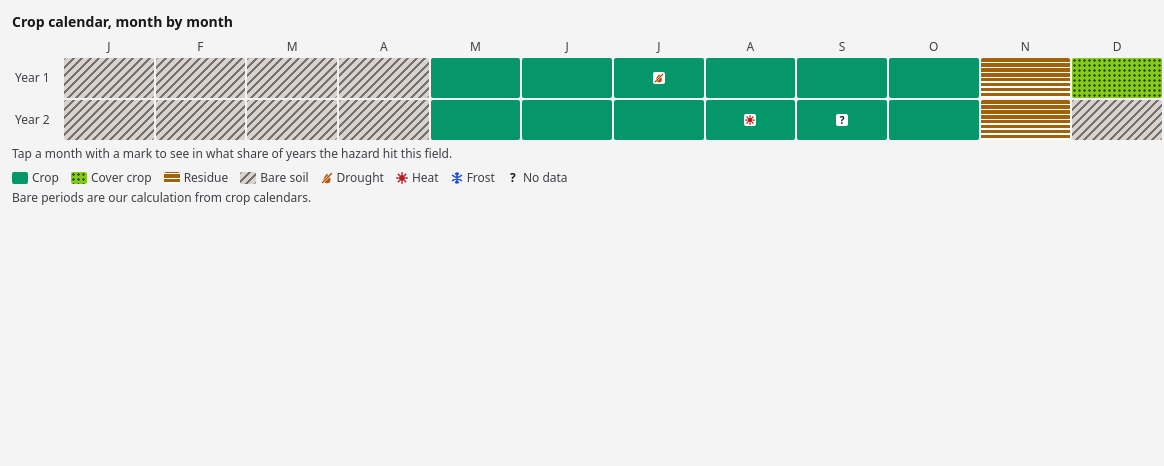
Scenario: CalendarStrip › shows the share of years as a percentage with its source chip when the month is tapped
Click the button named "July, Maize, drought risk" at (659, 78), box x1=614 y1=58 x2=704 y2=98
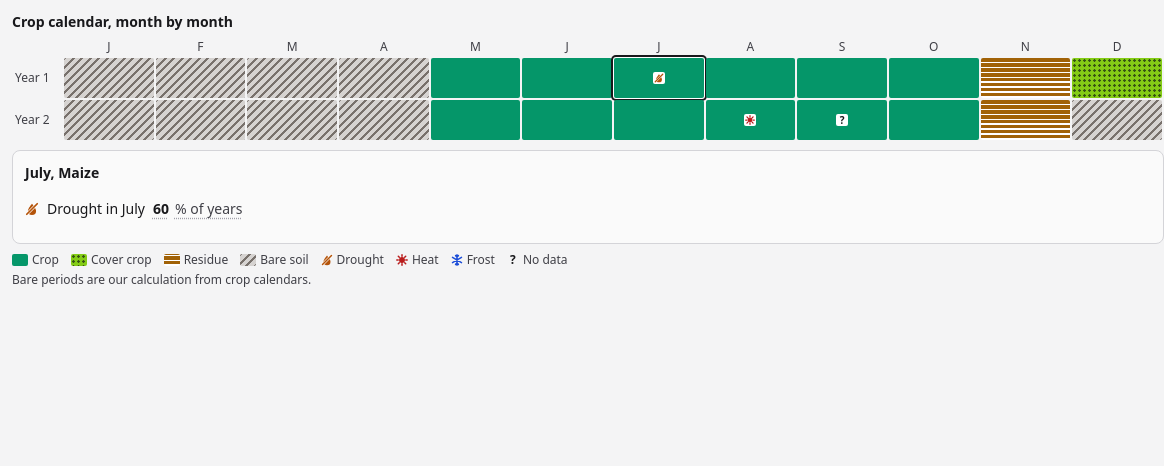
Expected: the text "Drought in July" is shown, x1=47 y1=199 x2=145 y2=219
Expected: the text "60" is shown, x1=153 y1=199 x2=169 y2=219
Expected: the text "% of years" is shown, x1=175 y1=199 x2=243 y2=219
Click the button with aria-label "model estimate" at (198, 209), box x1=153 y1=187 x2=242 y2=231
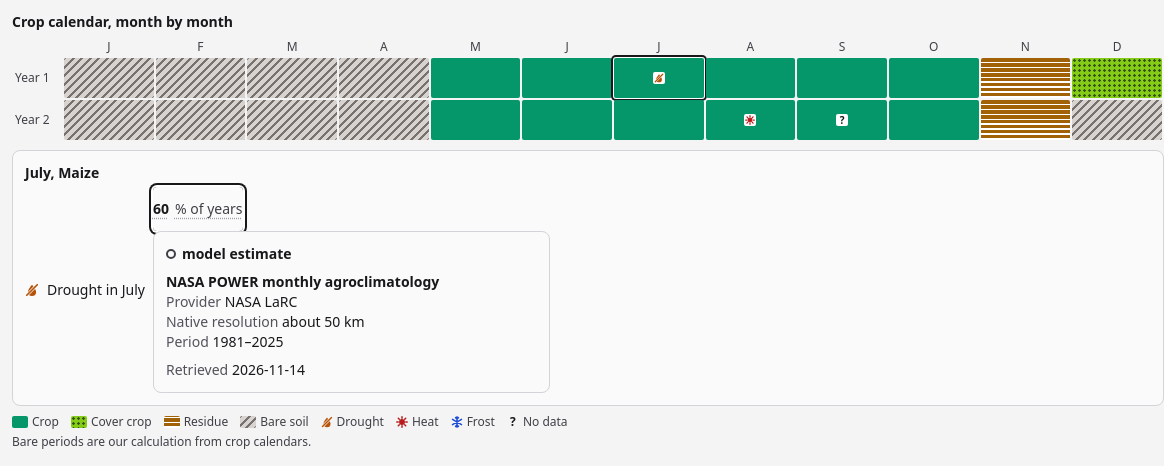
Expected: the text "NASA POWER monthly agroclimatology" is shown, x1=166 y1=272 x2=439 y2=291
Expected: the text "1981–2025" is shown, x1=212 y1=332 x2=284 y2=351
